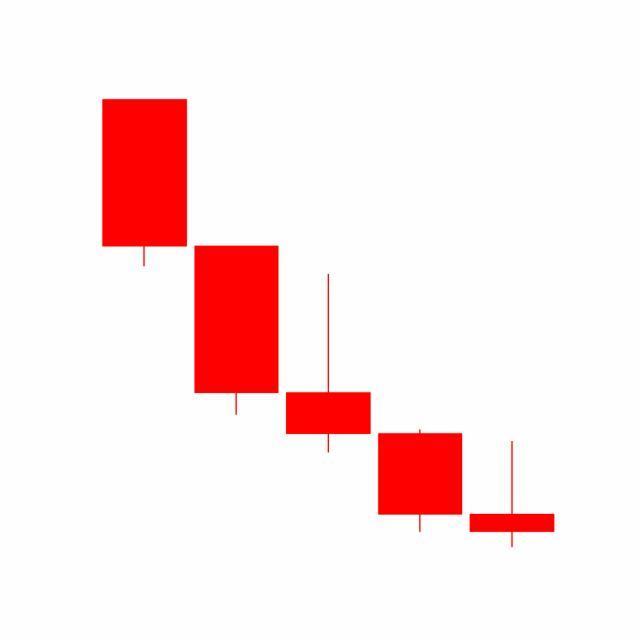Gravestone Doji: (466, 440, 559, 550)
